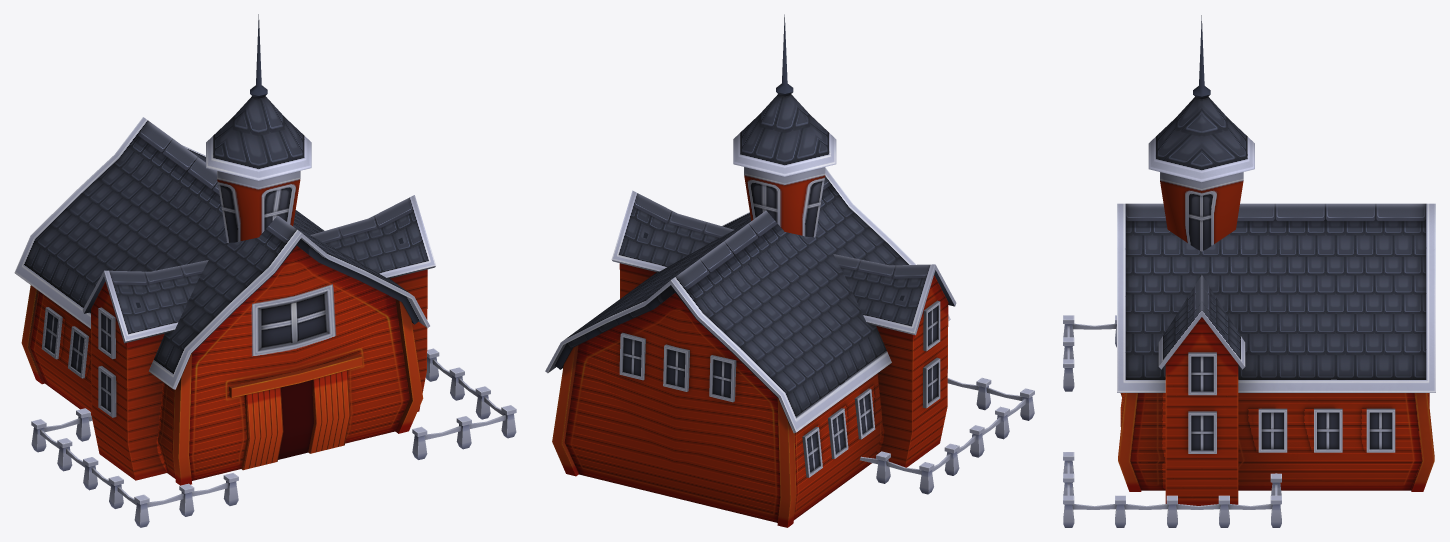
Rendered from Barn_1.FBX.
3 views of the same model, side by side, from view 1: azimuth 30°, elevation 25°; view 2: azimuth 150°, elevation 25°; view 3: azimuth 270°, elevation 25° (orthographic). The views are drawn at different scales.
Visible parts, largest first — view 1: Barn_1; view 2: Barn_1; view 3: Barn_1.
Part boxes in pixels (<box>): Barn_1: <box>14,14,516,527</box>; Barn_1: <box>545,14,1034,527</box>; Barn_1: <box>1063,15,1435,527</box>.
Size of the model in its own units: 759 by 808 by 646.
